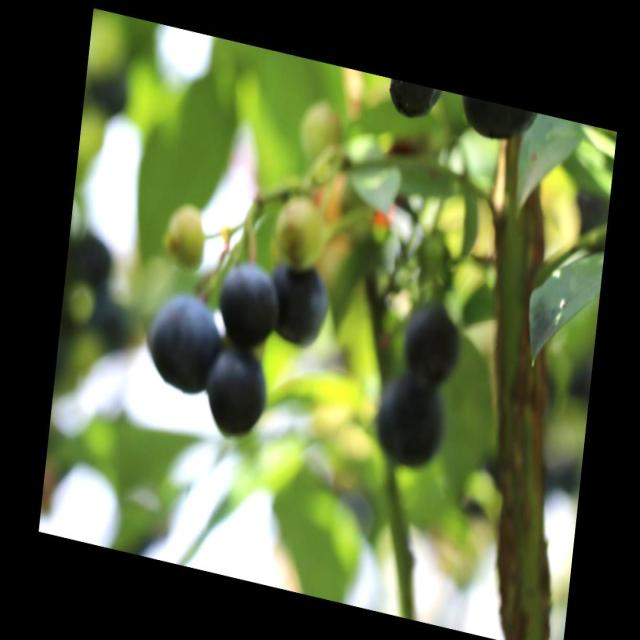blueberry: (143, 287, 224, 397), (374, 367, 448, 466), (199, 342, 272, 440), (268, 257, 332, 351), (215, 256, 280, 344), (404, 293, 460, 382)
